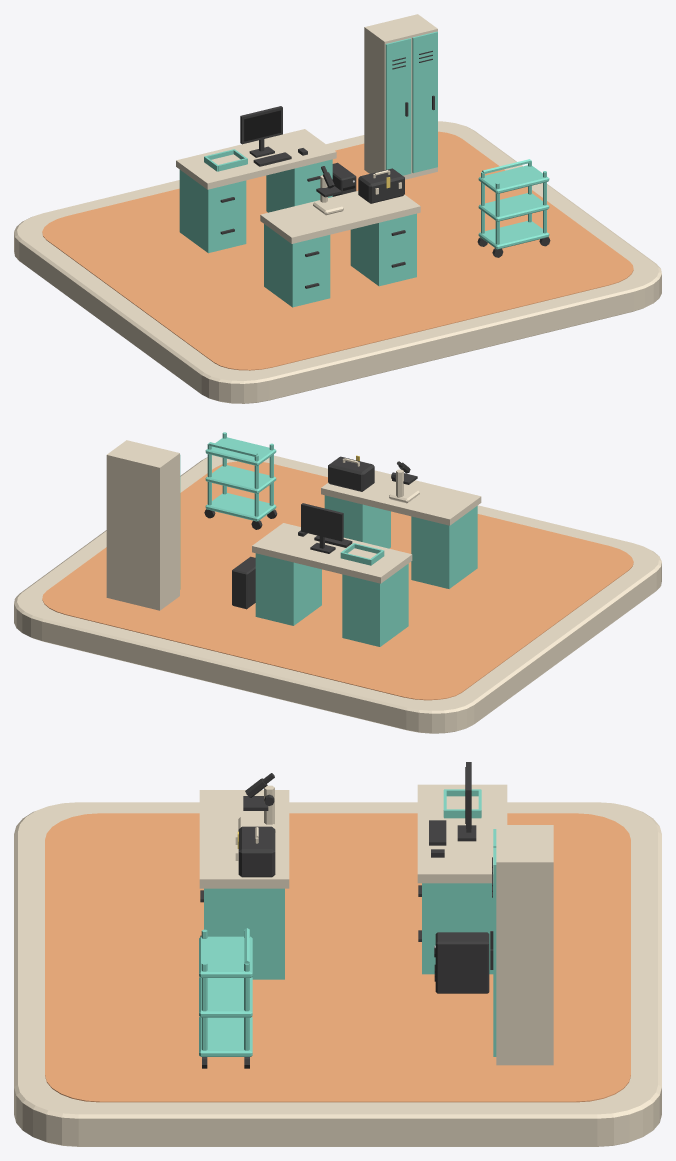
Rendered from room.fbx.
3 views of the same model, one above another, from view 1: azimuth 30°, elevation 25°; view 2: azimuth 150°, elevation 25°; view 3: azimuth 270°, elevation 25° (orthographic). The views are drawn at different scales.
Visible parts, largest first — view 1: COM-02 Floor Surface, COM-01 Rounded Base Direct, Case.001, Storage module.002, Worktop, Storage module, Worktop.001, Storage module.001, Door, Door.001, Storage module.003, Frame (+5 smaller); view 2: COM-02 Floor Surface, COM-01 Rounded Base Direct, Case.001, Storage module.002, Storage module, Storage module.003, Worktop.001, Worktop, Storage module.001, Frame, Case, Tray (+3 smaller); view 3: COM-02 Floor Surface, COM-01 Rounded Base Direct, Case.001, Worktop.001, Worktop, Storage module.001, Storage module.003, Tower, Tray.002, Case, Tray.001, Tray (+2 smaller).
Boxes of the visible parts, bbox=[...] form: COM-02 Floor Surface: bbox=[42, 131, 633, 370]; COM-01 Rounded Base Direct: bbox=[14, 121, 661, 403]; Case.001: bbox=[364, 14, 437, 179]; Storage module.002: bbox=[179, 170, 246, 253]; Worktop: bbox=[260, 191, 420, 243]; Storage module: bbox=[264, 224, 330, 307]; Worktop.001: bbox=[176, 129, 336, 189]; Storage module.001: bbox=[350, 213, 416, 286]; Door: bbox=[385, 38, 411, 175]; Door.001: bbox=[412, 31, 437, 172]; Storage module.003: bbox=[266, 159, 332, 212]; Frame: bbox=[240, 106, 282, 157]; COM-02 Floor Surface: bbox=[42, 461, 633, 700]; COM-01 Rounded Base Direct: bbox=[14, 455, 661, 733]; Case.001: bbox=[106, 440, 179, 610]; Storage module.002: bbox=[342, 563, 408, 646]; Storage module: bbox=[411, 506, 477, 588]; Storage module.003: bbox=[255, 553, 321, 625]; Worktop.001: bbox=[252, 523, 412, 583]; Worktop: bbox=[321, 470, 481, 525]; Storage module.001: bbox=[324, 495, 390, 548]; Frame: bbox=[301, 503, 343, 553]; Case: bbox=[328, 456, 374, 491]; Tray: bbox=[205, 493, 276, 521]; COM-02 Floor Surface: bbox=[45, 813, 630, 1102]; COM-01 Rounded Base Direct: bbox=[14, 802, 661, 1146]; Case.001: bbox=[496, 825, 553, 1065]; Worktop.001: bbox=[417, 784, 507, 883]; Worktop: bbox=[199, 790, 289, 888]; Storage module.001: bbox=[204, 888, 284, 979]; Storage module.003: bbox=[422, 883, 493, 974]; Tower: bbox=[435, 932, 489, 993]; Tray.002: bbox=[199, 936, 252, 977]; Case: bbox=[238, 826, 275, 877]; Tray.001: bbox=[199, 977, 252, 1017]; Tray: bbox=[199, 1017, 252, 1056].
Bounding box in the file's own units: 600 × 210 × 520.
